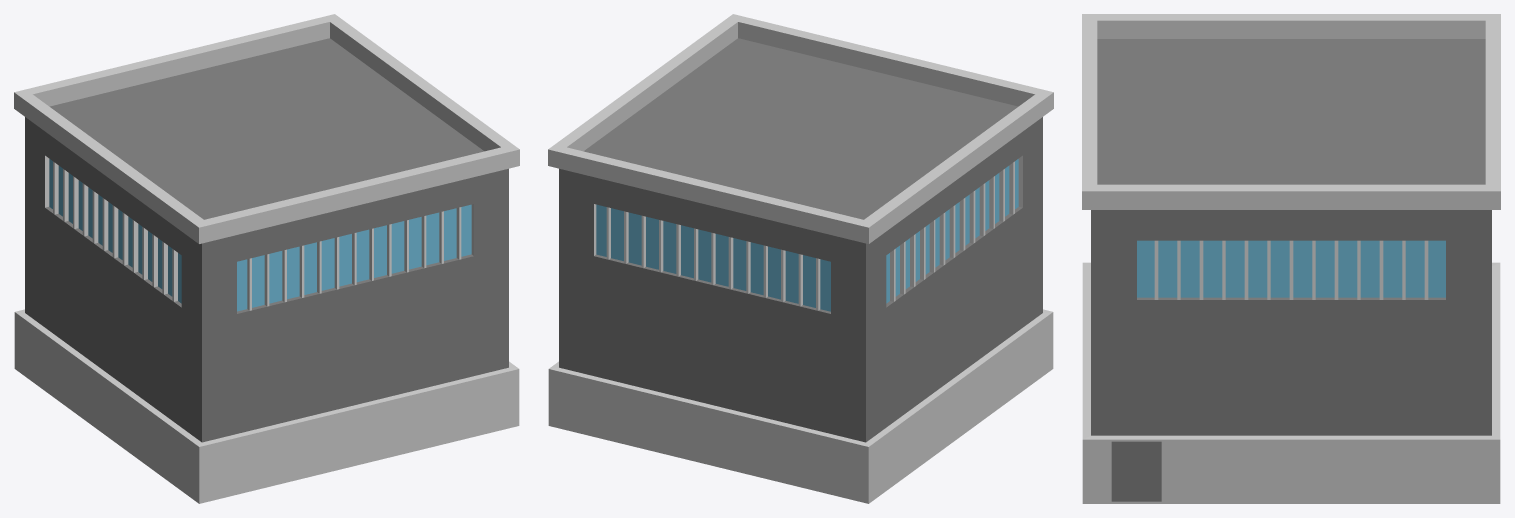
The model's file is building2-1.fbx.
3 renders of one model, left to right at view 1: azimuth 30°, elevation 25°; view 2: azimuth 150°, elevation 25°; view 3: azimuth 270°, elevation 25°, orthographic. The views are drawn at different scales.
Visible parts, largest first — view 1: Cube.006; view 2: Cube.006; view 3: Cube.006.
Part boxes in pixels (x1,y1,x2,y2): Cube.006: (14, 14, 519, 503); Cube.006: (548, 14, 1053, 503); Cube.006: (1082, 14, 1500, 503).
Bounding box in the file's own units: 2299 × 1894 × 2297.
